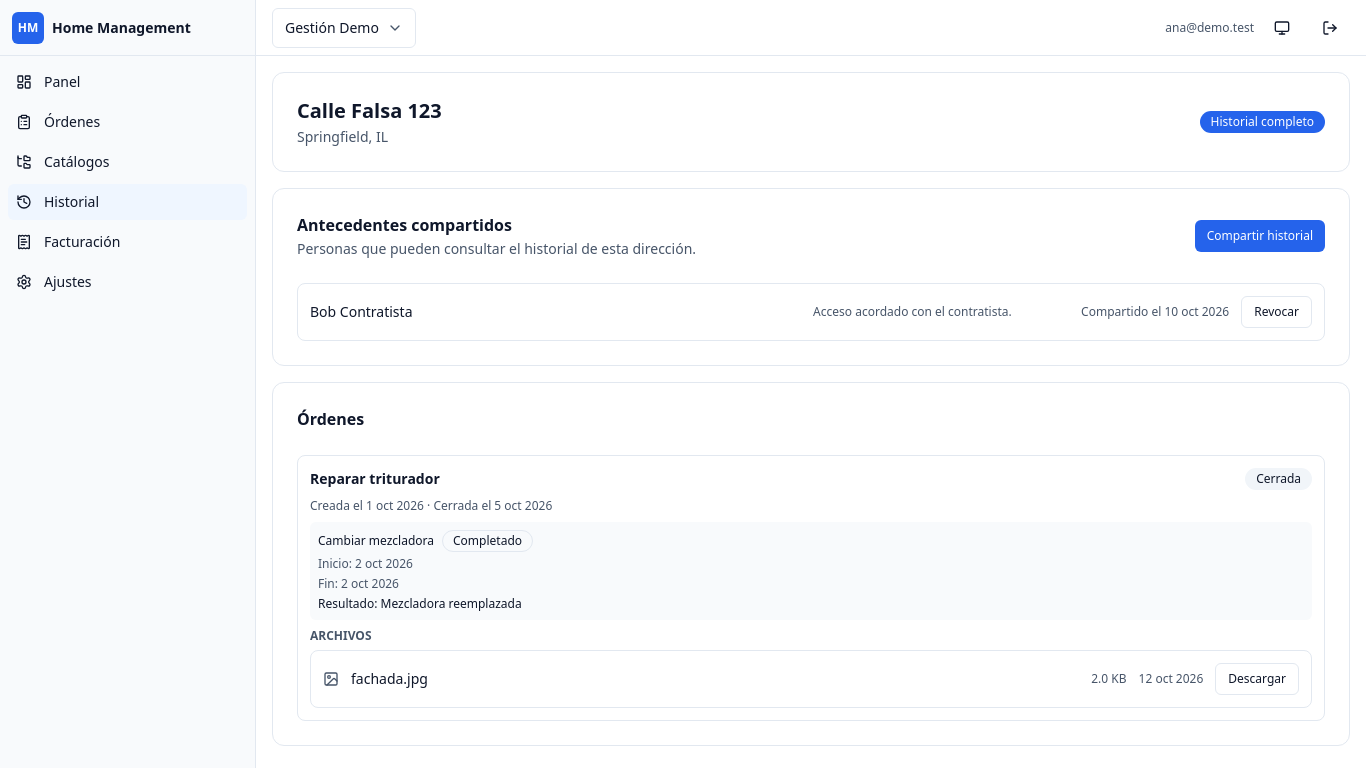
Test case: property history (spec F5 §2.4/§5, AC-F5.5…AC-F5.9) › shares with a validated member, excluding the already shared ones
The image size is (1366, 768).
Click the button "Compartir historial" at (1260, 236), box [1195,220,1325,252]
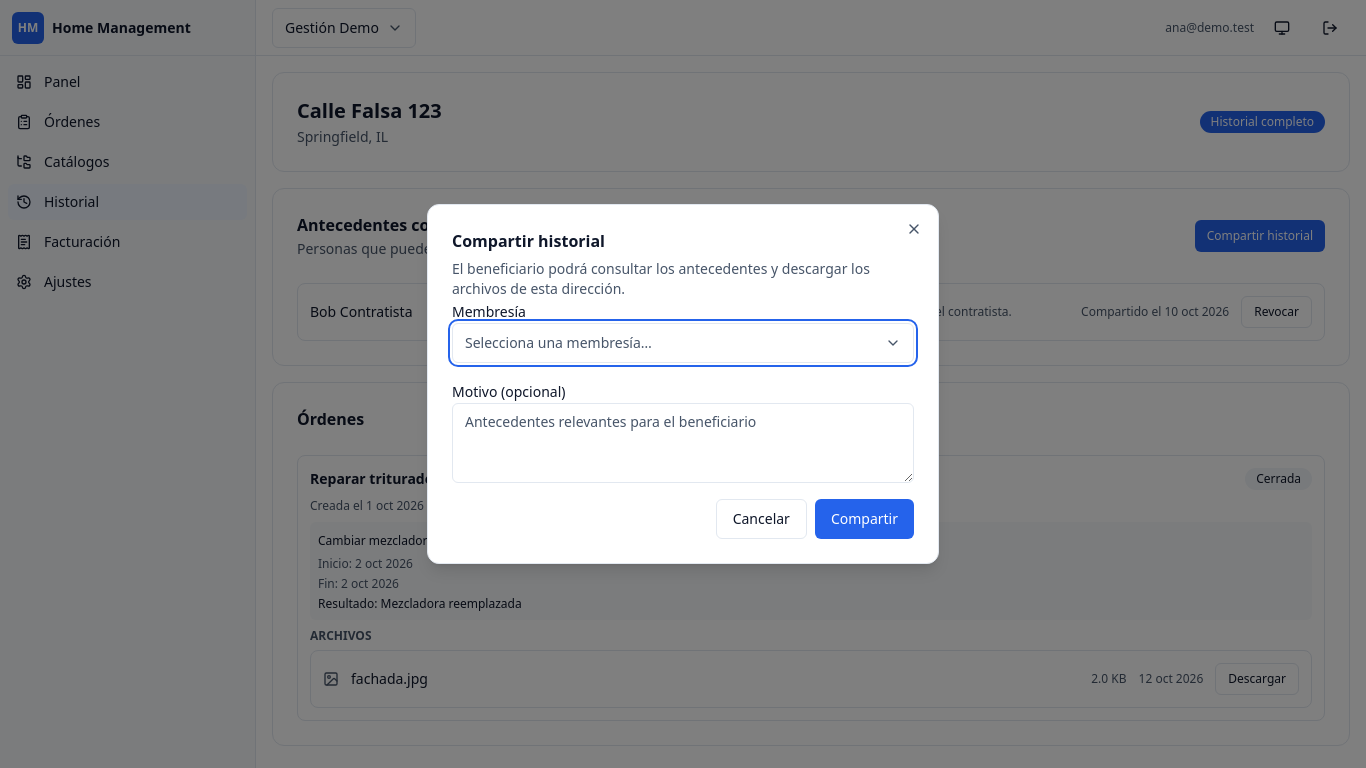
# Validation before any network call (AC-F5.7).
Click the button "Compartir" at (864, 519), box [815,499,914,539]
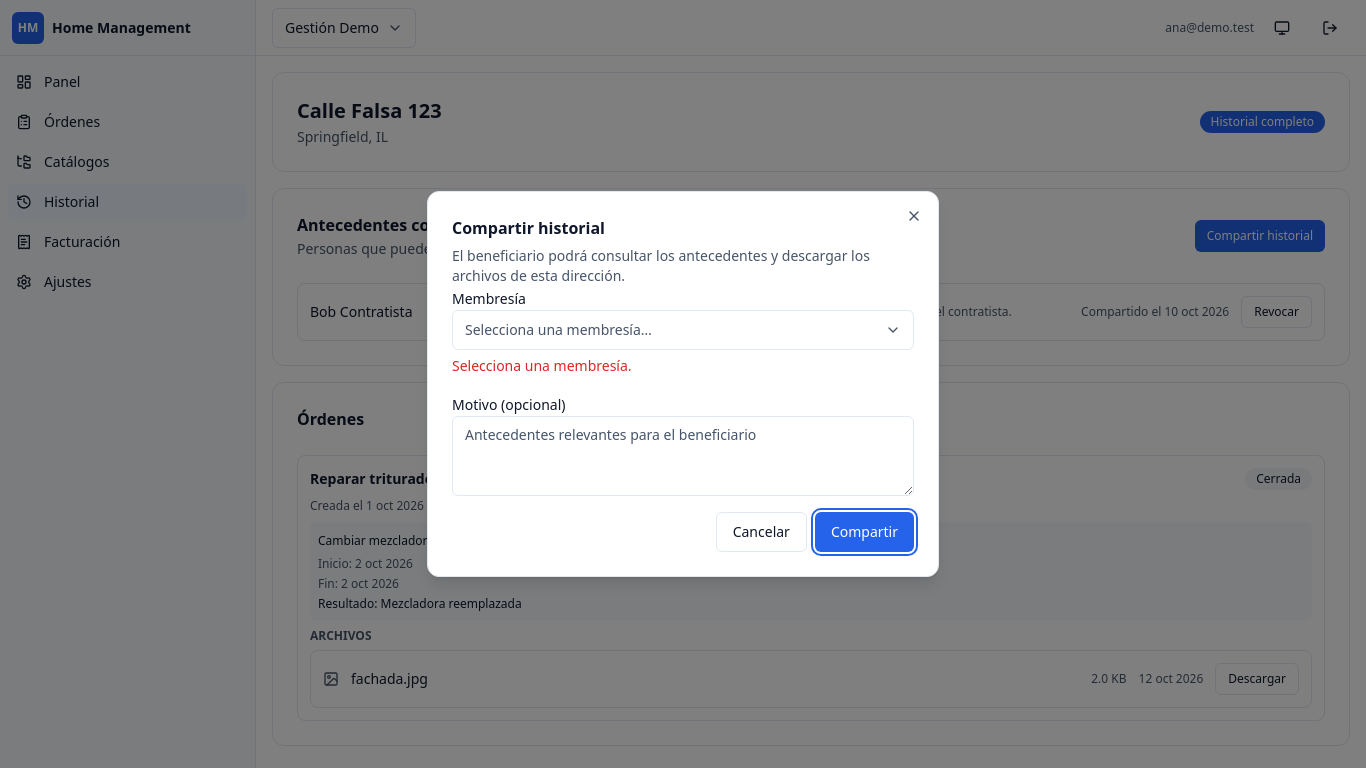
Check: the text "Selecciona una membresía." is shown, box [452,356,632,375]
# Options: own members + my memberships elsewhere, minus m-bob (shared).
Click the dropdown labelled "membresía" at (558, 330), box [452,310,914,350]
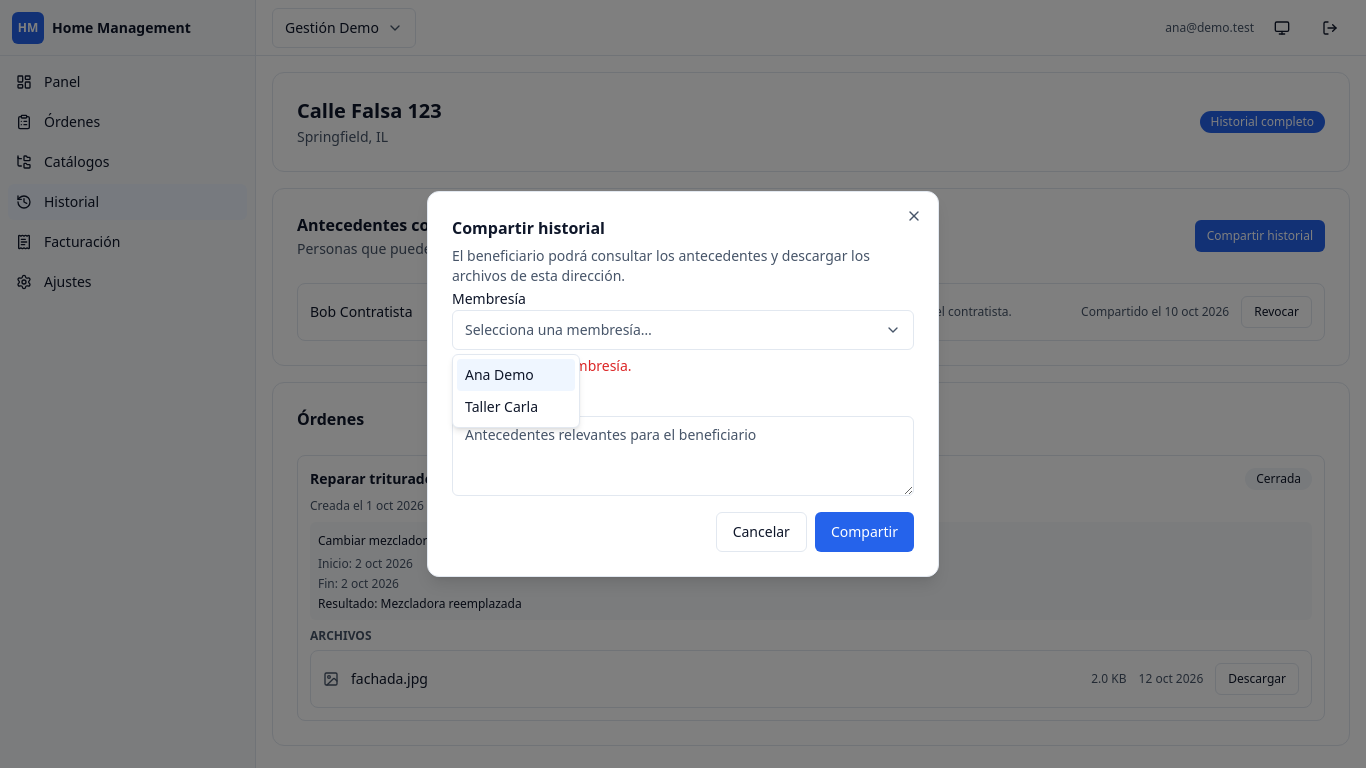
Check: the option "Ana Demo" is shown
Check: the option "Taller Carla" is shown, box [465,397,538,416]
Click the option "Ana Demo" at (516, 375), box [457,359,575,391]
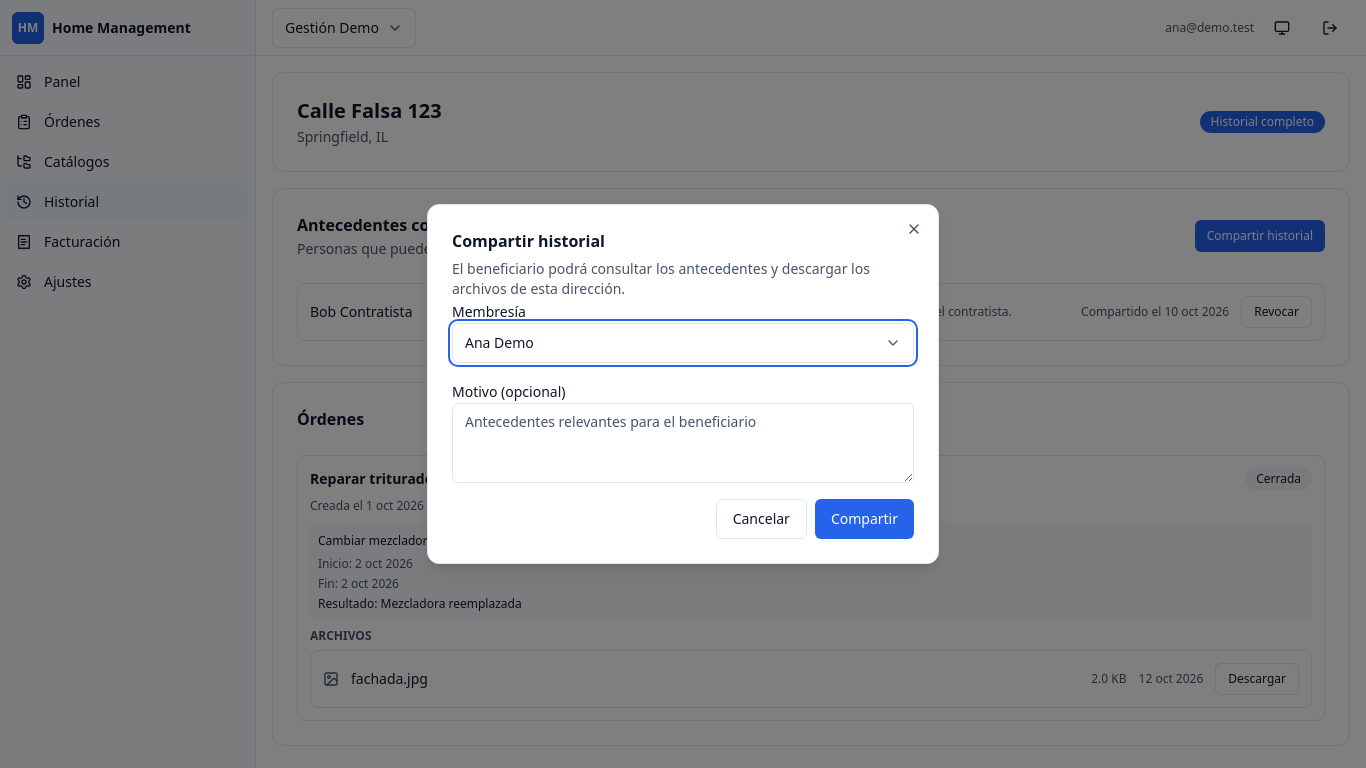
Type "Antecedentes del sitio." into the text box labelled "Motivo (opcional)" at (683, 443), box [452,403,914,483]
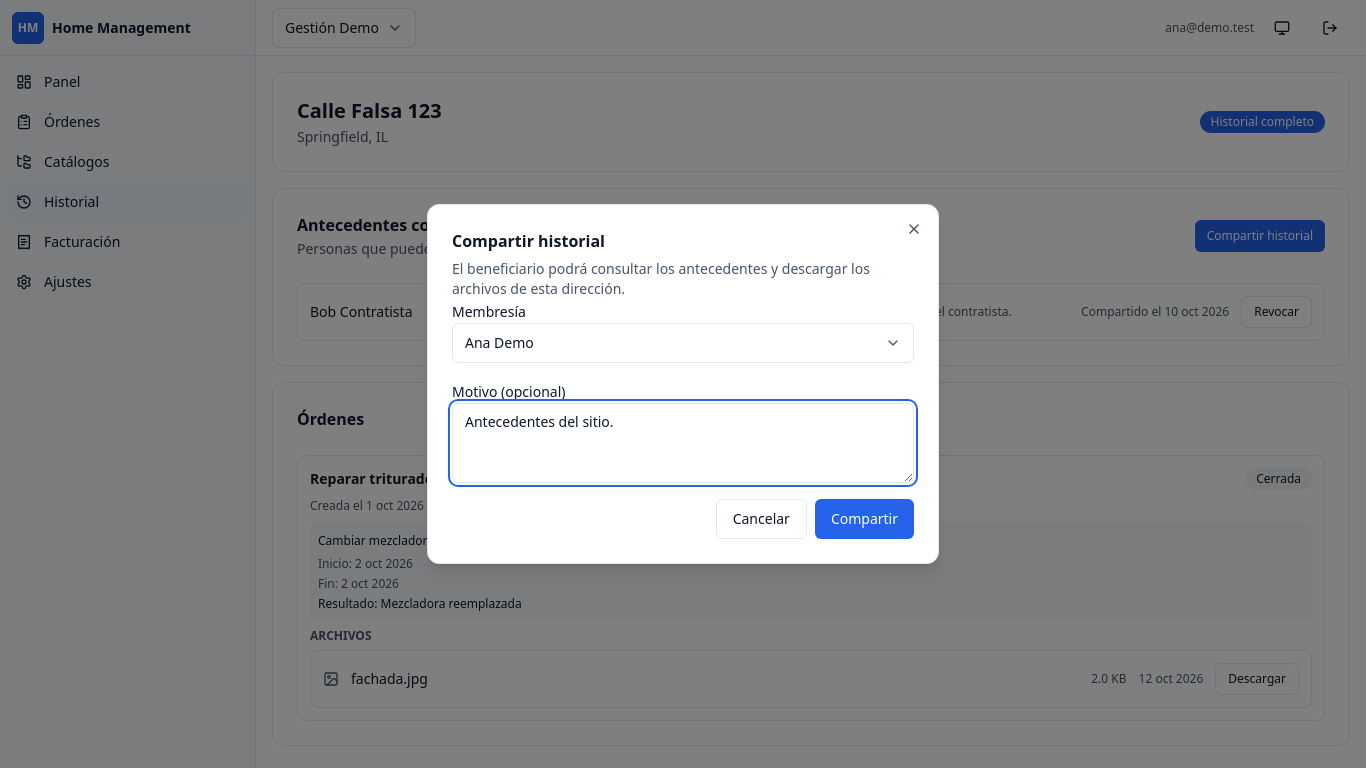
Click the button "Compartir" at (864, 519), box [815,499,914,539]
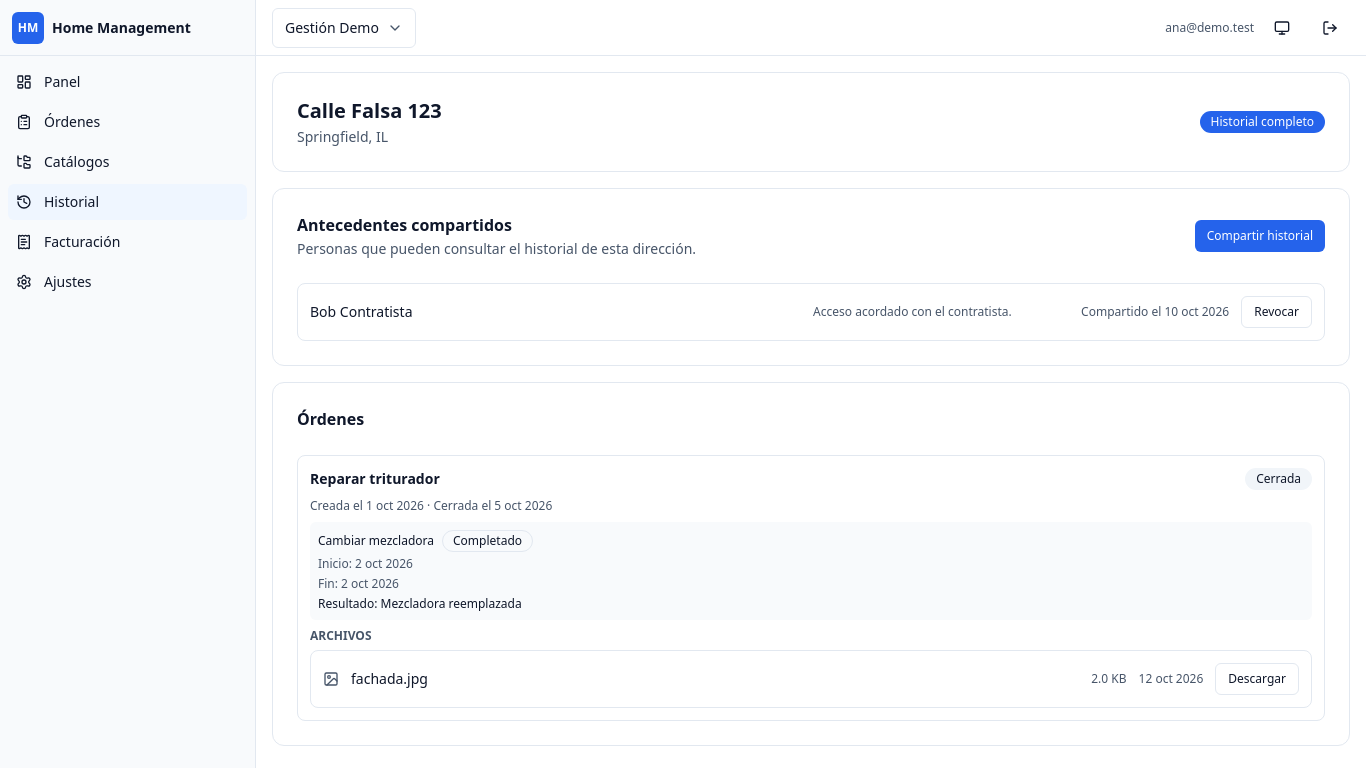
Check: the dialog is gone
